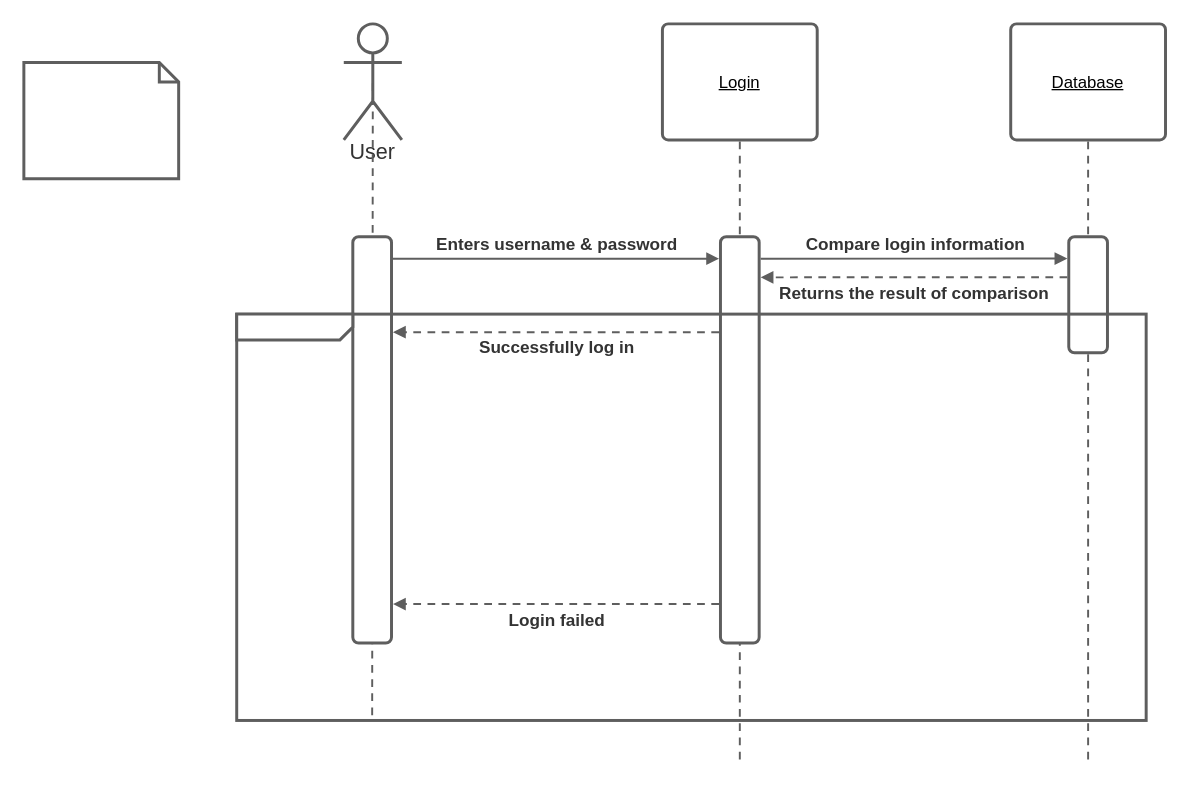
Some shapes in this 1189 by 786 pixel diagram are drawn without their labels. The centre of each missing label's shape, as x and y in pixels:
"Alternative" goes at point 691,516.
"User: student, teacher admin" goes at point 101,120.
